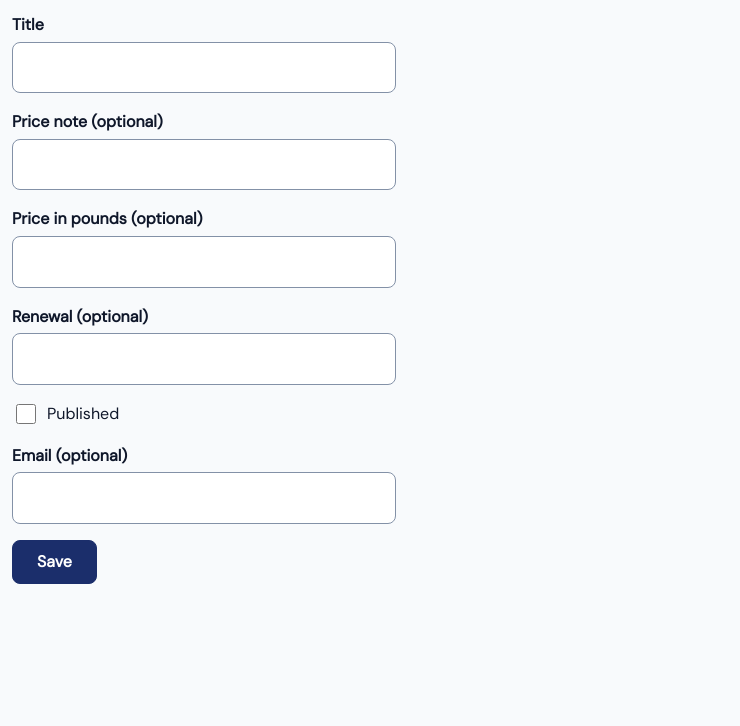
Test case: RecordForm › shows the server's message beside each field and links it for screen readers
Click the button "Save". click: click(54, 562)
box: [12, 540, 97, 584]
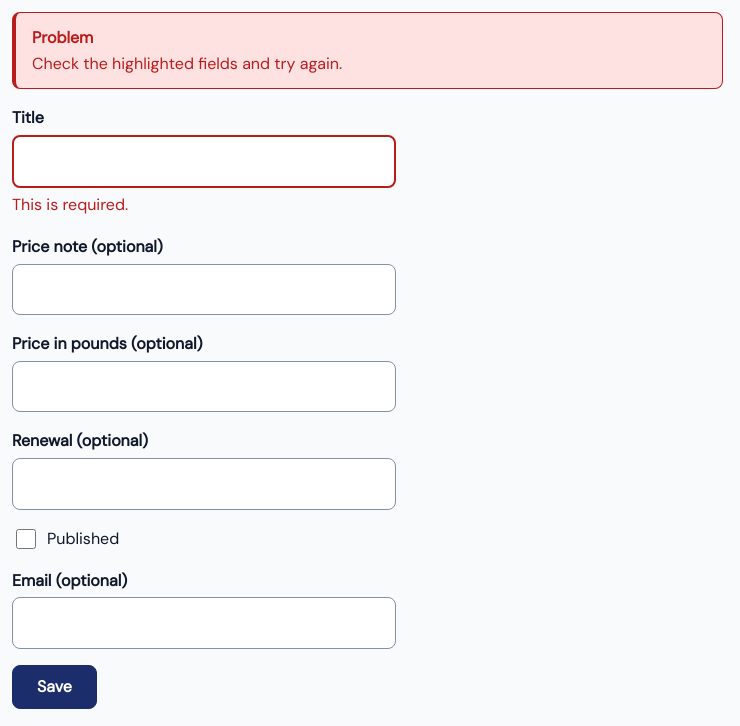
Check: the text "This is required." is shown, box [12, 194, 128, 215]
Check: the message shows "Check the highlighted fields", box [32, 53, 342, 74]
